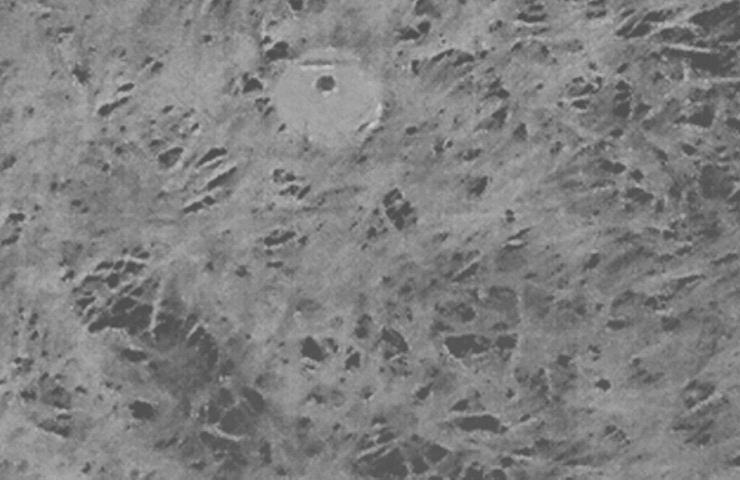landmines: (270, 42, 390, 160)
